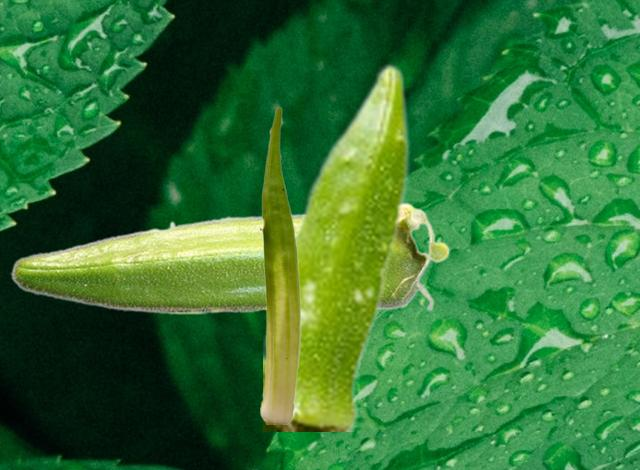okra: (263, 61, 410, 430), (10, 201, 449, 314), (260, 106, 300, 423)
